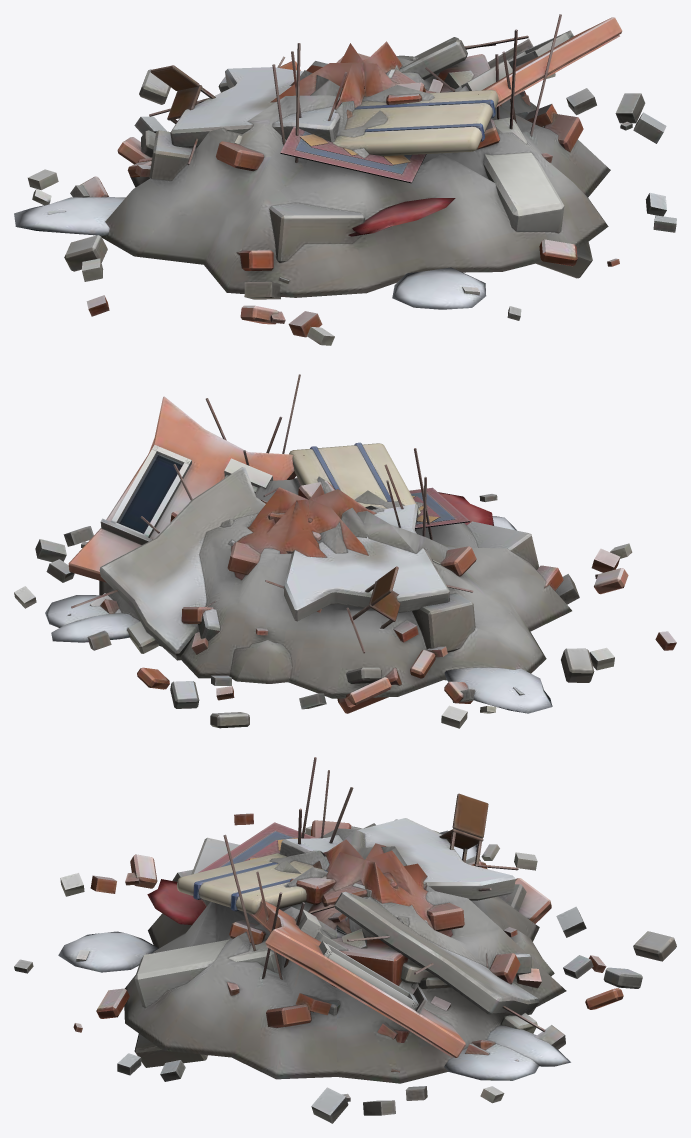
The model's file is bld_rubble_s.glb.
The picture shows the model from 3 angles, top to bottom: view 1: azimuth 30°, elevation 25°; view 2: azimuth 150°, elevation 25°; view 3: azimuth 270°, elevation 25°; orthographic projection. The views are drawn at different scales.
Visible parts, largest first — view 1: bld_rubble_s; view 2: bld_rubble_s; view 3: bld_rubble_s.
Boxes of the visible parts, bbox=[...] form: bld_rubble_s: bbox=[14, 14, 676, 345]; bld_rubble_s: bbox=[14, 374, 676, 728]; bld_rubble_s: bbox=[14, 757, 676, 1123].
Size of the model in its own units: 8.53 by 2.93 by 7.91.
1 material, 1 textured.
